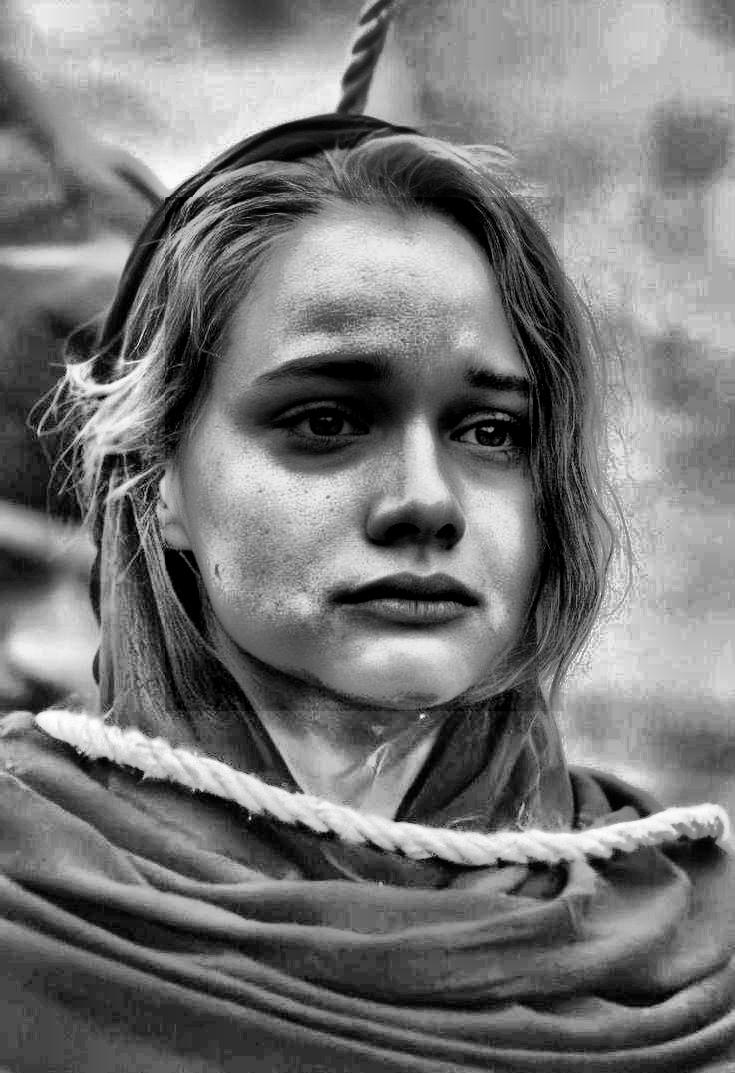sad: (166, 198, 565, 712)
